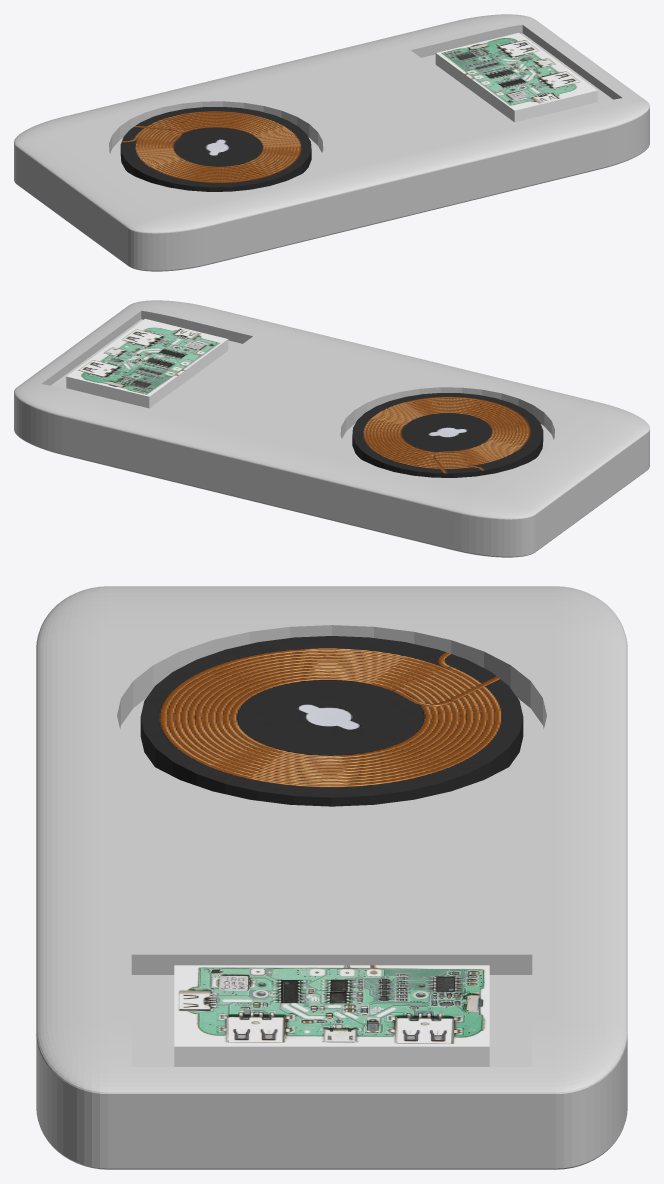
3 views of the same model, one above another, from view 1: azimuth 30°, elevation 25°; view 2: azimuth 150°, elevation 25°; view 3: azimuth 270°, elevation 25° (orthographic). The views are drawn at different scales.
Parts seen in each view (by area): view 1: Cube, Cylinder, Cube.001; view 2: Cube, Cylinder, Cube.001; view 3: Cube, Cylinder, Cube.001.
Boxes of the visible parts, x1,y1,x2,y2 form: Cube: [14, 14, 649, 271]; Cylinder: [120, 107, 311, 191]; Cube.001: [435, 33, 597, 122]; Cube: [14, 300, 649, 557]; Cylinder: [352, 393, 543, 477]; Cube.001: [66, 319, 228, 408]; Cube: [36, 586, 627, 1169]; Cylinder: [140, 636, 523, 806]; Cube.001: [174, 965, 489, 1066].
Bounding box in the file's own units: 4.05 × 0.3786 × 2.
Materials: 2 (2 with a texture image).
